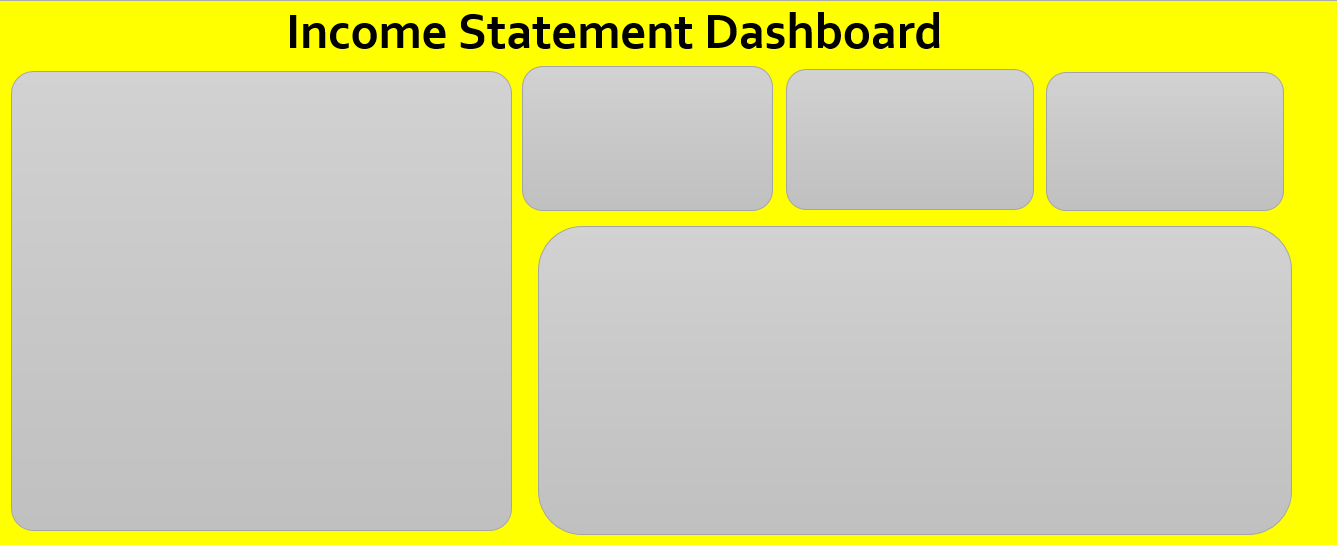

Layout of this report page (visuals, bound fields, positions):
{"tool":"powerbi","page":{"name":"Page 1","canvas":[1280,720],"ordinal":0},"visuals":[{"type":"tableEx","fields":{"Values":["Yearly Income Statements.Index","Yearly Income Statements.Description","Yearly Income Statements.FY22","Yearly Income Statements.FY21"]},"box":[15.7,92.9,465.7,595.7],"z":0},{"type":"kpi","title":"Net Income","fields":{"Indicator":["Sum(Net Income.FY22)"],"Goal":["Sum(Net Income.FY21)"],"TrendLine":["Net Income.Description"]},"box":[505.7,92.9,227.1,180],"z":1000},{"type":"kpi","title":"Operating Income","fields":{"Indicator":["Sum(Operating Income.FY22)"],"Goal":["Sum(Operating Income.FY21)"],"TrendLine":["Operating Income.Description"]},"box":[754.3,92.9,227.1,180],"z":2000},{"type":"kpi","title":"Total revenue","fields":{"Indicator":["Sum(Total Revenue.FY22)"],"TrendLine":["Total Revenue.Description"],"Goal":["Sum(Total Revenue.FY21)"]},"box":[1002.9,92.9,227.1,180],"z":3000},{"type":"clusteredColumnChart","fields":{"Category":["Table.Description"],"Y":["Sum(Table.Net income)","Sum(Table.      Total revenue)"]},"box":[525.7,305.7,682.9,392.9],"z":4000}]}

Visuals, with their boxes on the page's 1280x720 design canvas (x1, y1, x2, y2). These are canvas units, not pixel positions in the 1337x545 screenshot, which may show the page scaled, cropped or inside an application window:
tableEx - Yearly Income Statements.Index x Yearly Income Statements.Description: detection(16, 93, 481, 689)
"Net Income" kpi: detection(506, 93, 733, 273)
"Operating Income" kpi: detection(754, 93, 981, 273)
"Total revenue" kpi: detection(1003, 93, 1230, 273)
clusteredColumnChart - Table.Description x Sum(Table.Net income): detection(526, 306, 1209, 699)
